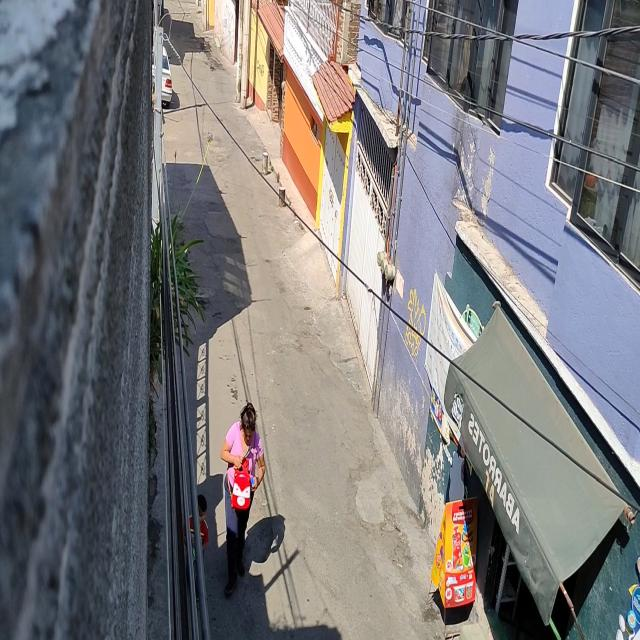adult: (220, 402, 268, 600)
